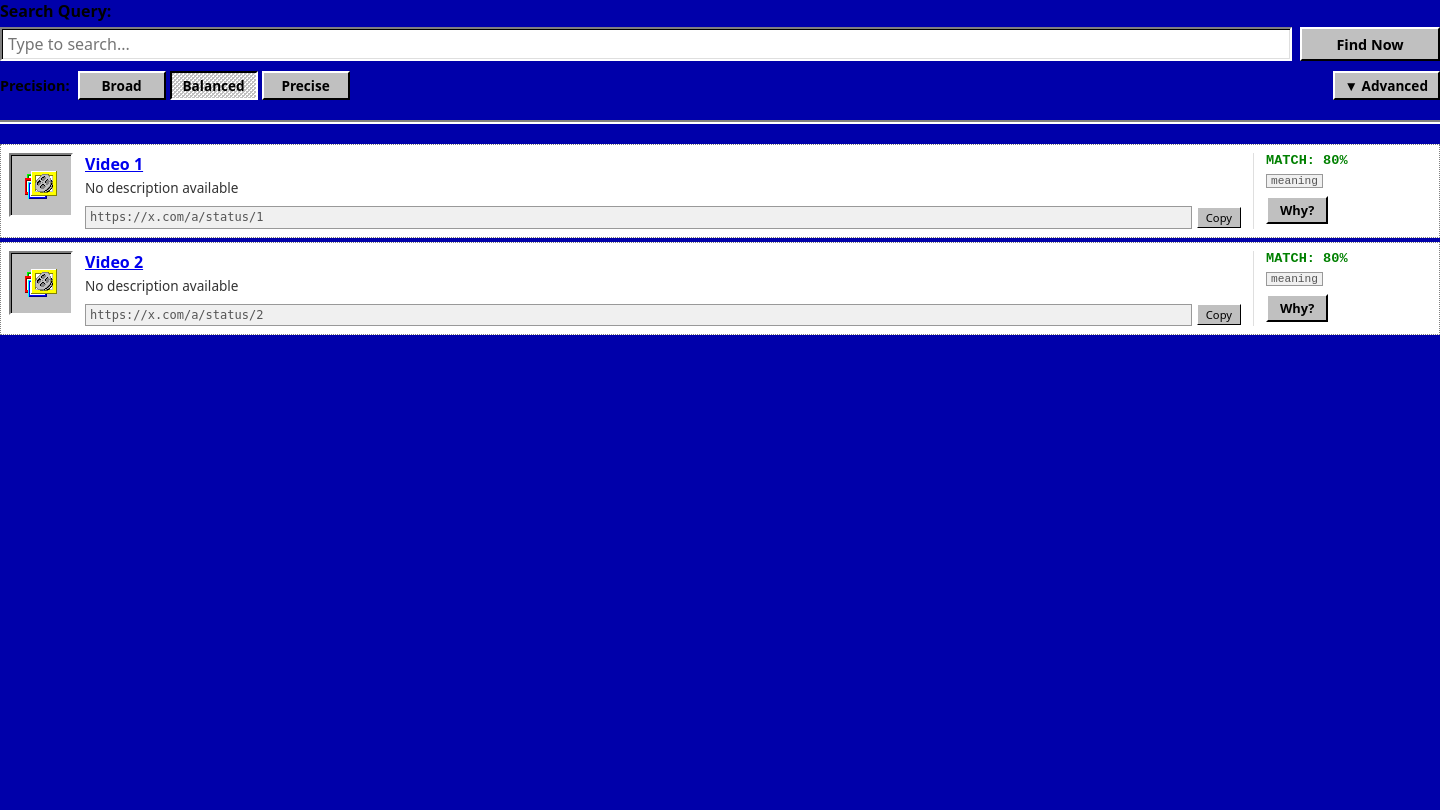
Test case: SearchSection Component › should let a result say why it is there, in the place it holds and under the search it answers
This screenshot has width=1440, height=810.
Click the 2nd button "Why?" at (1297, 308), box [1266,294,1328,322]
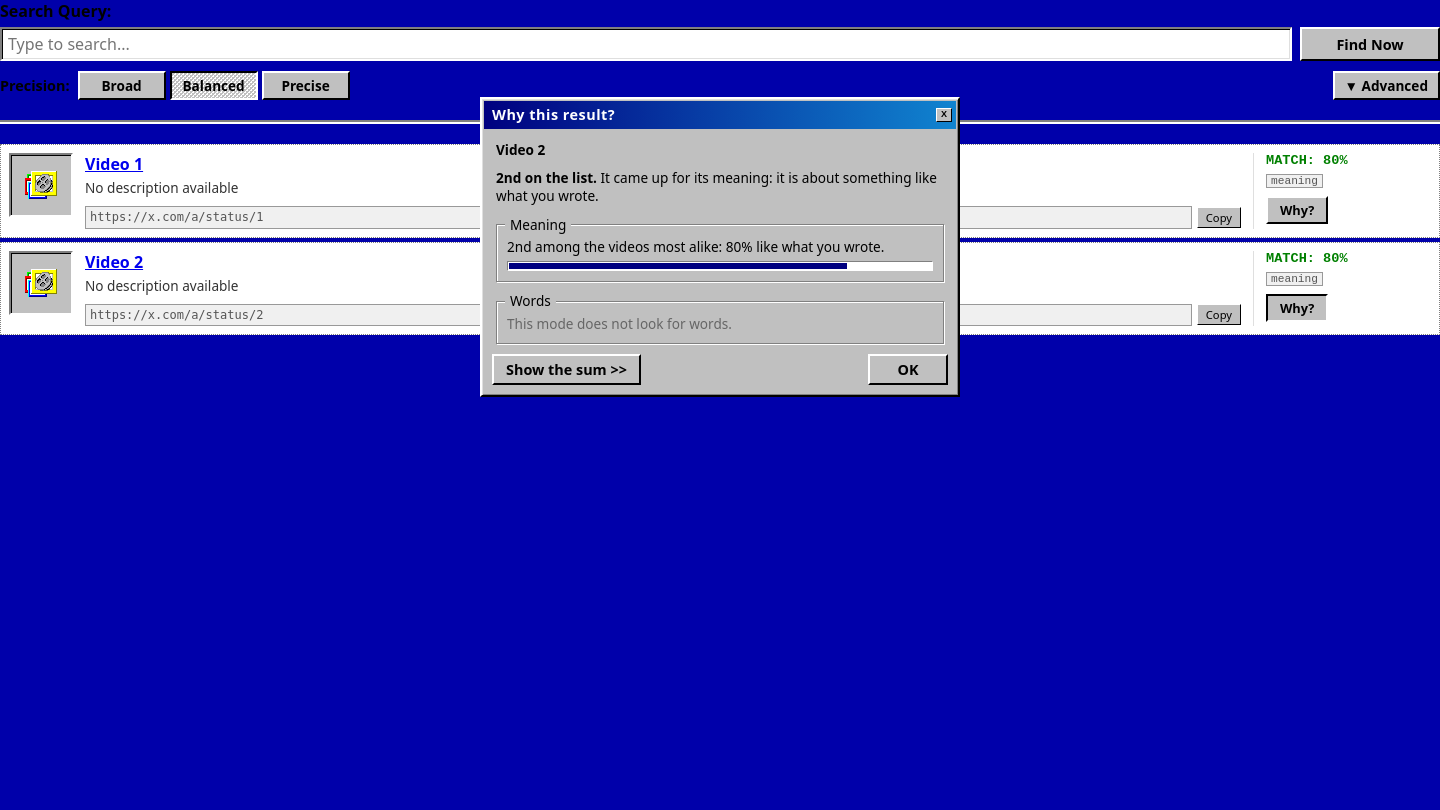
Result: the dialog "Why this result?" shows "Video 2" at [496,140,545,159]
Result: the dialog "Why this result?" shows "2nd on the list." at [496,168,597,187]
Result: the dialog "Why this result?" shows "This mode does not look for words." at [507,314,732,333]
